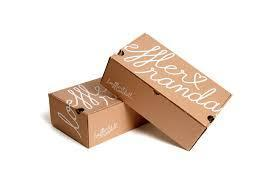box: (98, 31, 232, 152), (48, 70, 152, 148)
